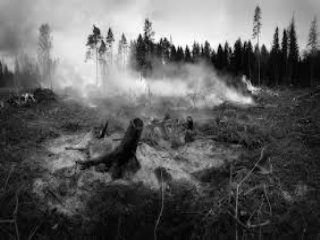smoke: (136, 60, 267, 112)
